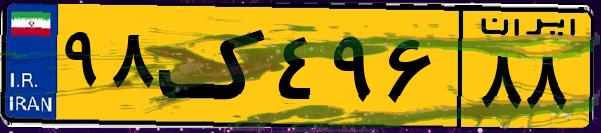4: (270, 28, 330, 110)
6: (385, 28, 445, 110)
8: (475, 38, 525, 113), (525, 38, 570, 115), (110, 28, 158, 98)
9: (330, 28, 385, 110), (57, 26, 110, 100)
ک: (158, 12, 270, 120)
